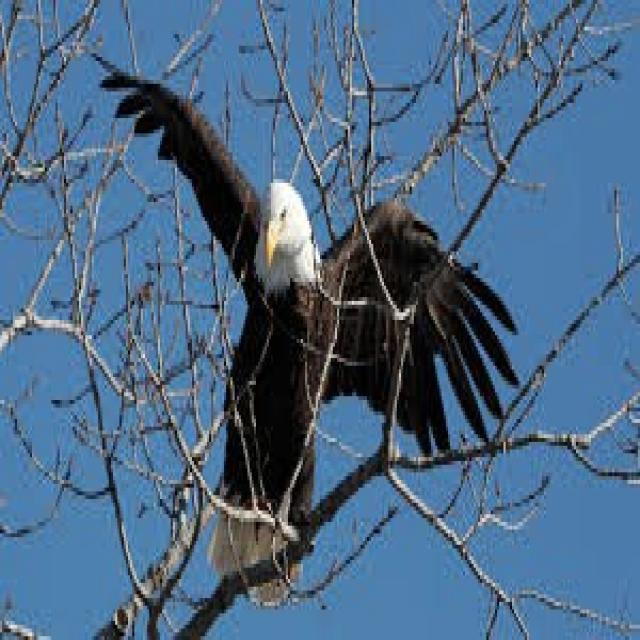eagle: (102, 72, 516, 598)
